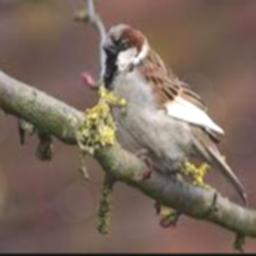Sparrow: (103, 23, 249, 207)
